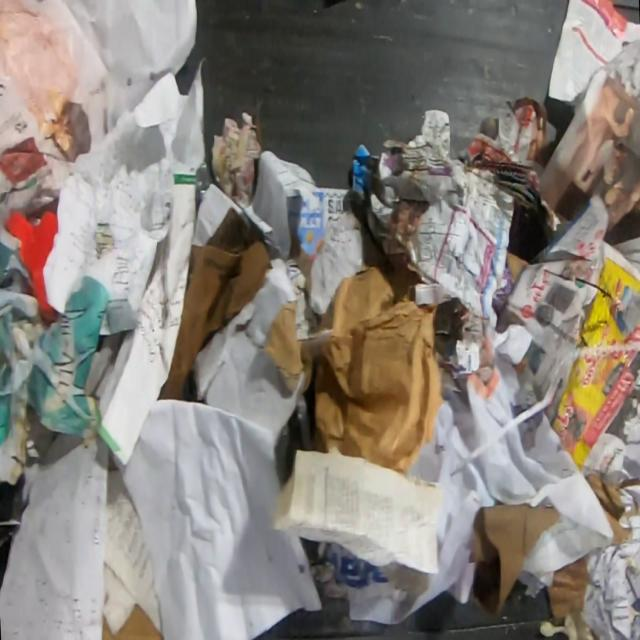cardboard: (155, 206, 272, 406), (4, 208, 58, 322), (103, 602, 165, 639)
